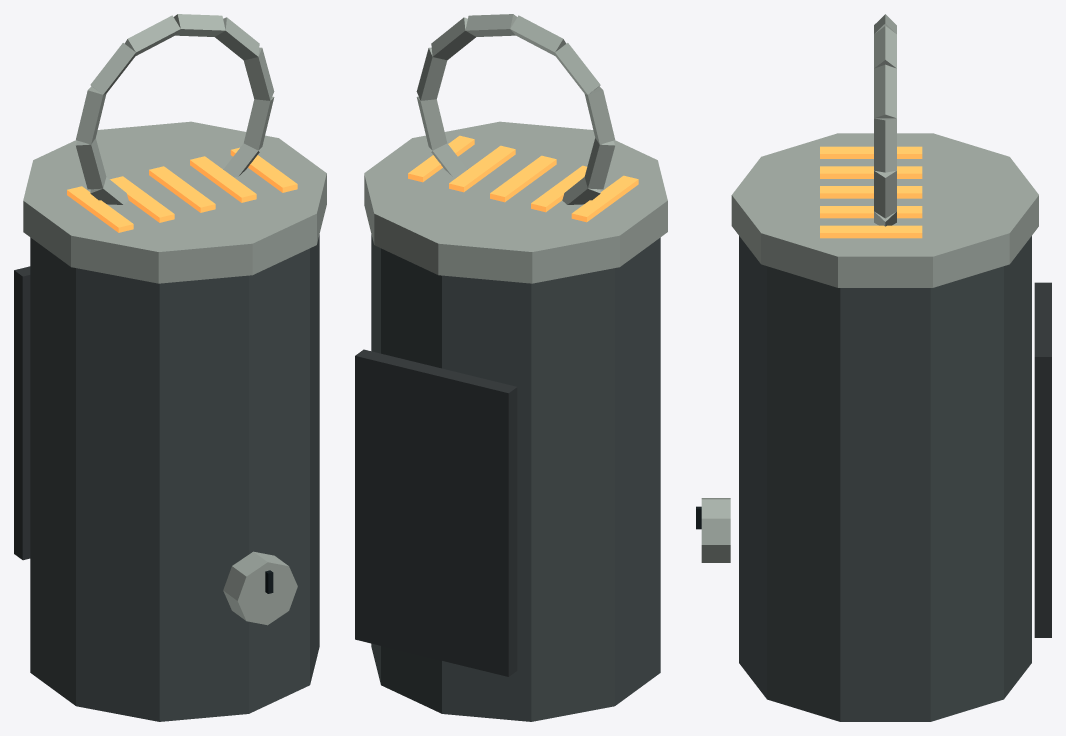
The model's file is blender_incense_3_burning.glb.
The picture shows the model from 3 angles, left to right: view 1: azimuth 30°, elevation 25°; view 2: azimuth 150°, elevation 25°; view 3: azimuth 270°, elevation 25°; orthographic projection.
Visible parts, largest first — view 1: blender_incense_3_burning; view 2: blender_incense_3_burning; view 3: blender_incense_3_burning.
Boxes of the visible parts, x1,y1,x2,y2 form: blender_incense_3_burning: [14, 14, 326, 721]; blender_incense_3_burning: [355, 14, 667, 721]; blender_incense_3_burning: [696, 14, 1051, 721].
Size of the model in its own units: 0.1019 by 0.2456 by 0.124.
2 materials, 2 textured.
